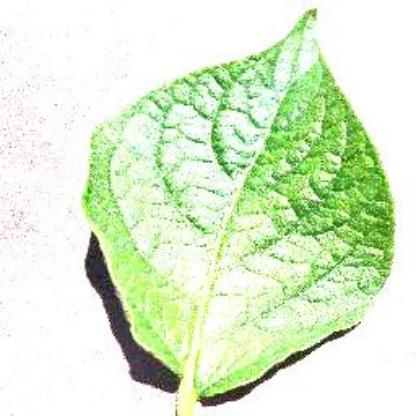Healthy-plant: (67, 4, 397, 408)
